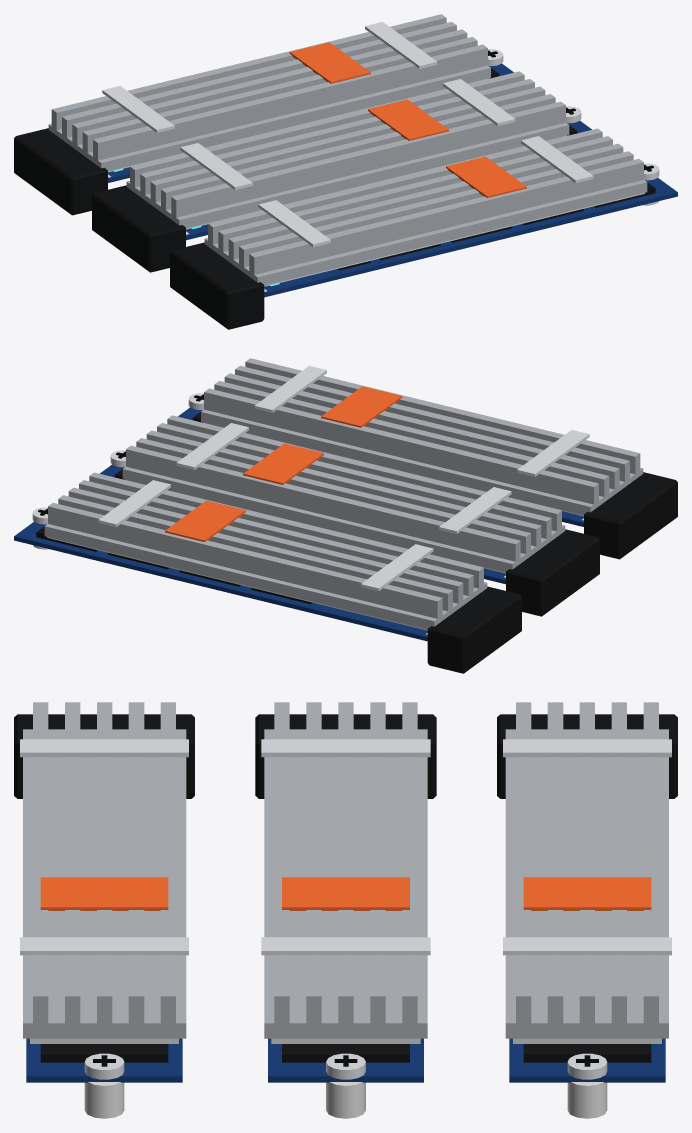
File: hwm_sto_raid_48tb.glb
3 renders of one model, top to bottom at view 1: azimuth 30°, elevation 25°; view 2: azimuth 150°, elevation 25°; view 3: azimuth 270°, elevation 25°, orthographic. The views are drawn at different scales.
Visible parts, largest first — view 1: SSD_2, SSD_0, SSD_1, Slots; view 2: SSD_0, SSD_2, SSD_1, Slots; view 3: SSD_0, SSD_2, SSD_1, Slots, Screw_0, Screw_2, Screw_1.
Boxes of the visible parts, left/top/right/bottom form: SSD_2: left=204, top=128, right=677, bottom=297; SSD_0: left=48, top=14, right=513, bottom=182; SSD_1: left=126, top=71, right=591, bottom=240; Slots: left=14, top=63, right=658, bottom=329; SSD_0: left=14, top=472, right=487, bottom=641; SSD_2: left=178, top=358, right=643, bottom=526; SSD_1: left=100, top=415, right=565, bottom=584; Slots: left=33, top=407, right=677, bottom=673; SSD_0: left=503, top=702, right=671, bottom=1082; SSD_2: left=20, top=702, right=188, bottom=1082; SSD_1: left=261, top=702, right=430, bottom=1082; Slots: left=14, top=714, right=677, bottom=1118; Screw_0: left=567, top=1053, right=607, bottom=1079; Screw_2: left=84, top=1053, right=124, bottom=1079; Screw_1: left=326, top=1053, right=365, bottom=1079.
Bounding box in the file's own units: 0.1155 × 0.0154 × 0.0935.
